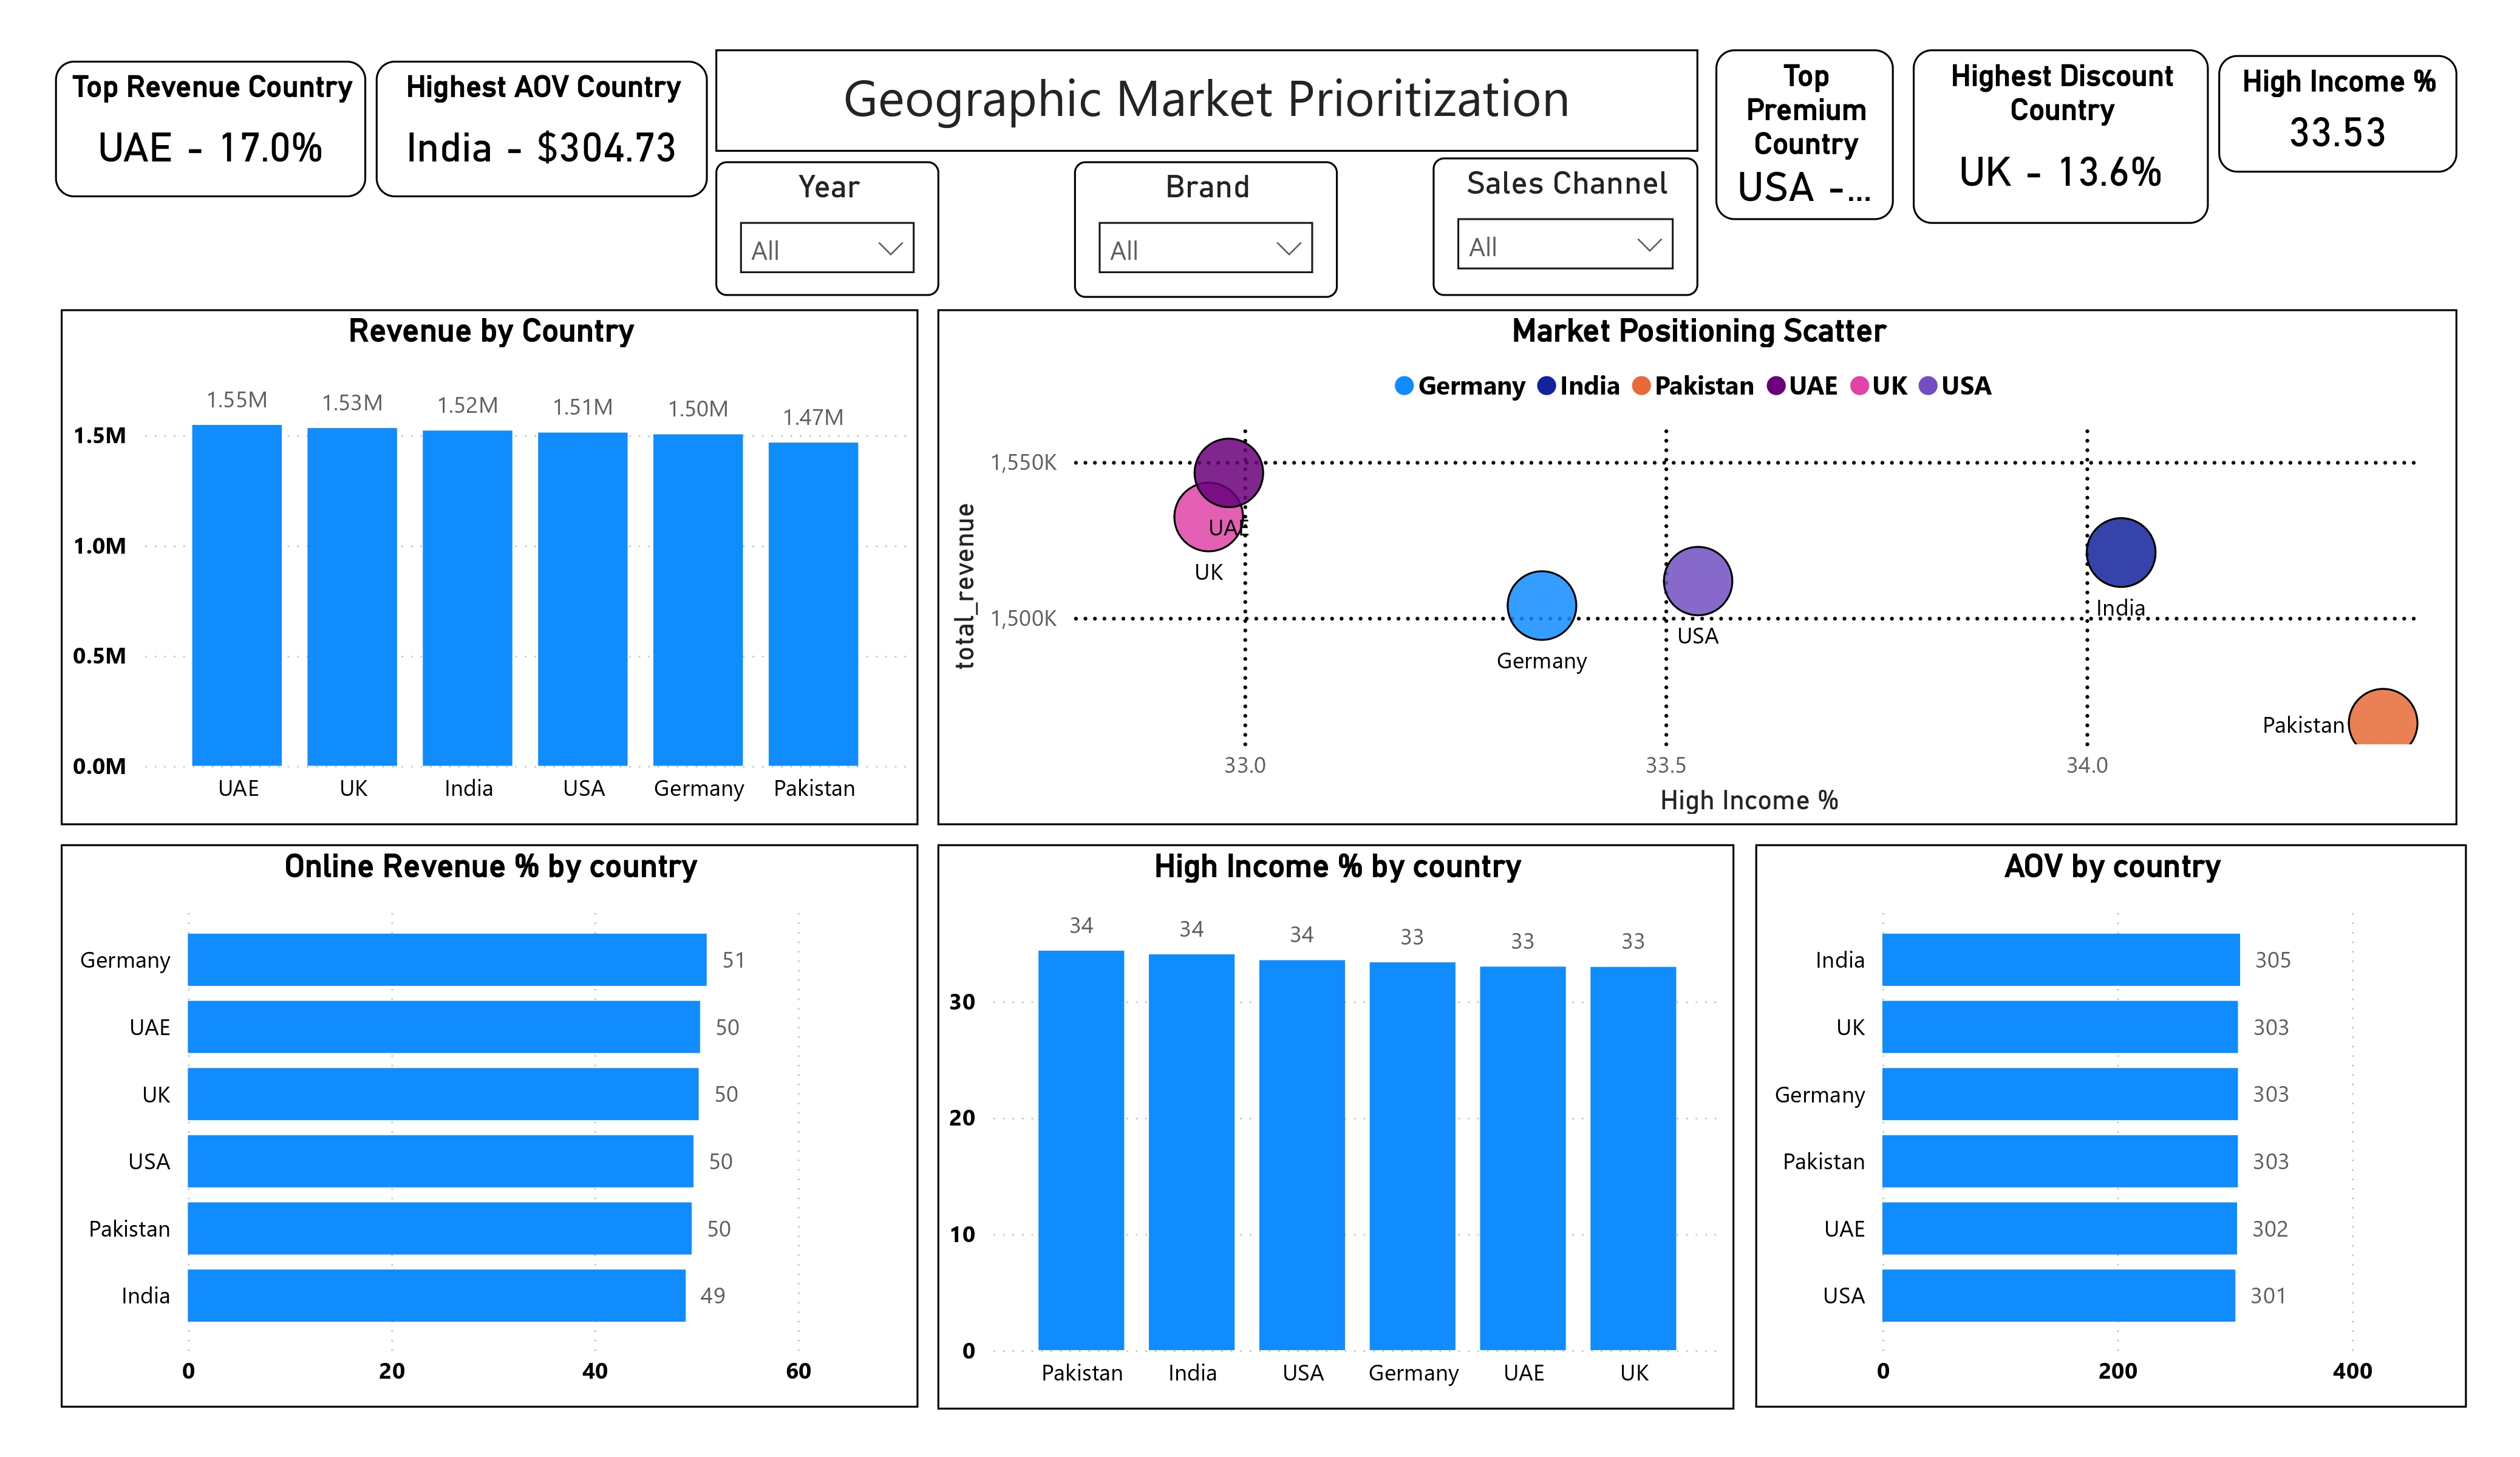

The page's visual inventory and layout, read from the dashboard file:
{"tool":"powerbi","page":{"name":"Geographic Market","canvas":[1280,720],"ordinal":4},"visuals":[{"type":"textbox","box":[352.8,1.5,517.9,54.5],"z":0},{"type":"card","title":"Top Revenue Country","fields":{"Values":["Table5.Top Revenue Country KPI"]},"box":[4.9,8.2,163.8,72.1],"z":1000},{"type":"card","title":"Highest AOV Country ","fields":{"Values":["Table5.Highest AOV Country KPI"]},"box":[173.7,8.2,175.3,72.1],"z":2000},{"type":"card","title":"High Income %","fields":{"Values":["Table5.High Income %"]},"box":[1145.1,4.9,126.1,62.3],"z":3000},{"type":"card","title":"Top Premium Country ","fields":{"Values":["Table5.Top Premium Country KPI"]},"box":[879.8,1.5,93.9,90.9],"z":4000},{"type":"card","title":"Highest Discount Country","fields":{"Values":["Table5.Highest Discount Country KPI"]},"box":[984.2,1.5,156,92.4],"z":5000},{"type":"columnChart","title":"Revenue by Country","fields":{"Category":["cleaned_data.country"],"Y":["Table2.total_revenue"]},"box":[8.2,139.3,452.2,271.9],"z":6000},{"type":"barChart","fields":{"Y":["Table2.AOV"],"Category":["cleaned_data.country"]},"box":[901,421,375.2,296.5],"z":7000},{"type":"clusteredColumnChart","fields":{"Category":["cleaned_data.country"],"Y":["Table5.High Income %"]},"box":[470.2,421,419.4,298.2],"z":8000},{"type":"barChart","fields":{"Category":["cleaned_data.country"],"Y":["Table5.Online Revenue %"]},"box":[8.2,421,452.2,296.5],"z":9000},{"type":"scatterChart","title":"Market Positioning Scatter","fields":{"X":["Table5.High Income %"],"Y":["Table2.total_revenue"],"Size":["Table2.AOV"],"Series":["cleaned_data.country"]},"box":[470.2,139.3,801.1,271.9],"z":10000},{"type":"slicer","title":"Brand","fields":{"Values":["brand_summary.brand"]},"box":[542.1,60.6,139.3,72.7],"z":11000},{"type":"slicer","title":"Year","fields":{"Values":["cleaned_data.year"]},"box":[352.8,60.6,118.1,71.2],"z":12000},{"type":"slicer","title":"Sales Channel","fields":{"Values":["cleaned_data.sales_channel"]},"box":[731.4,59.1,139.3,72.7],"z":13000}]}

Visuals, with their boxes on the page's 1280x720 design canvas (x1, y1, x2, y2). These are canvas units, not pixel positions in the 2520x1457 screenshot, which may show the page scaled, cropped or inside an application window:
textbox: [353,2,871,56]
"Top Revenue Country" card: [5,8,169,80]
"Highest AOV Country " card: [174,8,349,80]
"High Income %" card: [1145,5,1271,67]
"Top Premium Country " card: [880,2,974,92]
"Highest Discount Country" card: [984,2,1140,94]
"Revenue by Country" columnChart: [8,139,460,411]
barChart - Table2.AOV x cleaned_data.country: [901,421,1276,718]
clusteredColumnChart - cleaned_data.country x Table5.High Income %: [470,421,890,719]
barChart - cleaned_data.country x Table5.Online Revenue %: [8,421,460,718]
"Market Positioning Scatter" scatterChart: [470,139,1271,411]
"Brand" slicer: [542,61,681,133]
"Year" slicer: [353,61,471,132]
"Sales Channel" slicer: [731,59,871,132]
